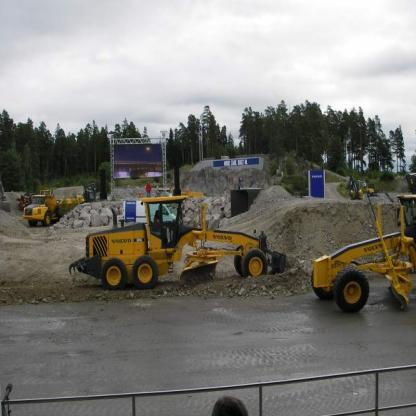bull_dozer/loader/grader: (70, 190, 279, 290)
